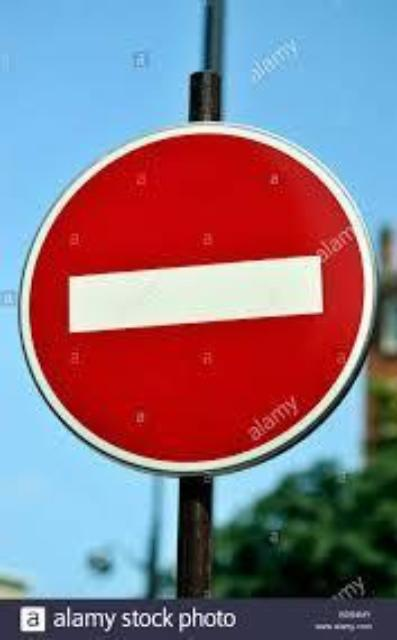B2: (13, 118, 379, 478)
